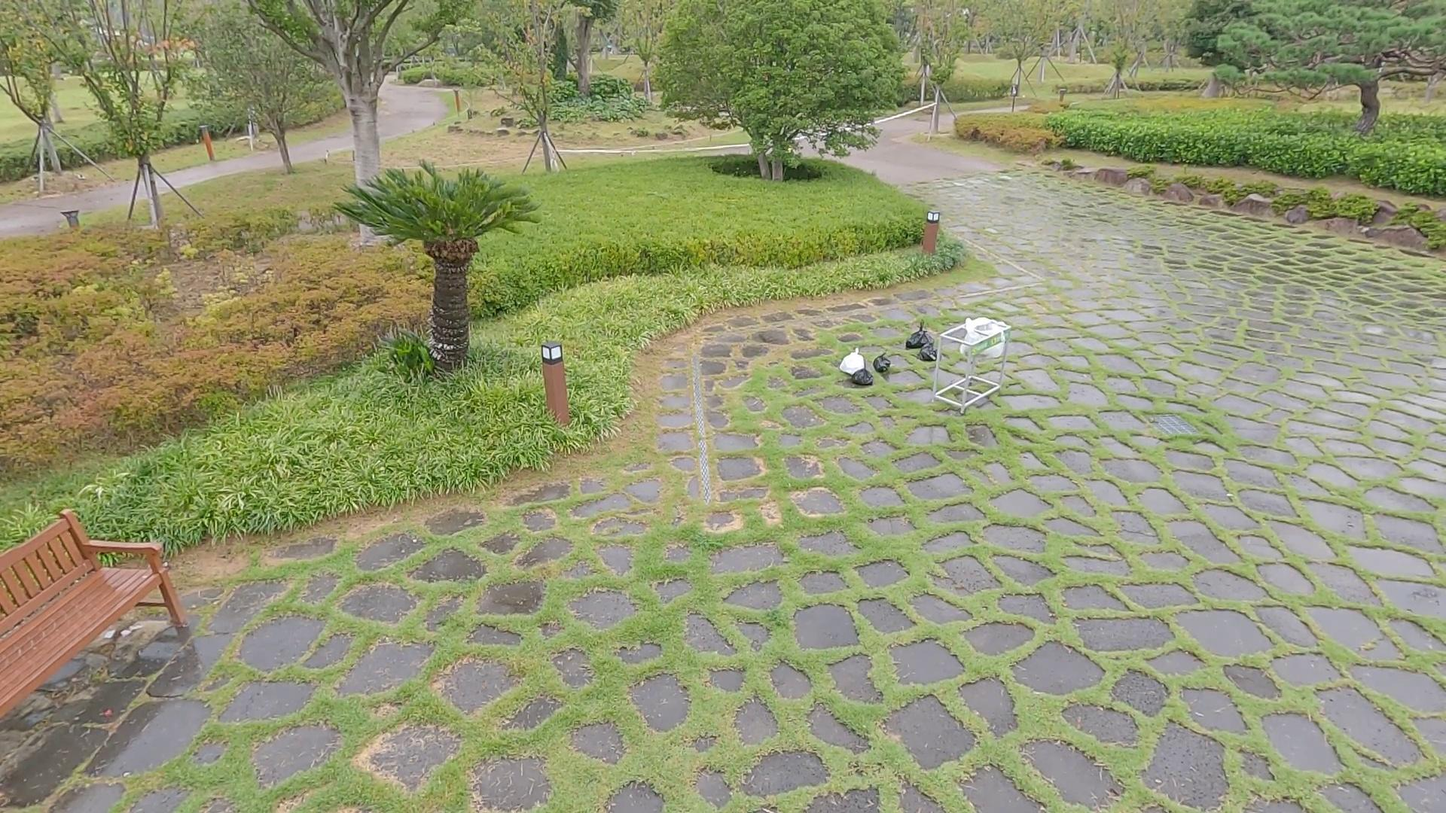trash: (842, 344, 867, 377), (906, 320, 934, 349), (915, 331, 939, 363), (850, 365, 876, 389), (873, 350, 895, 375)
